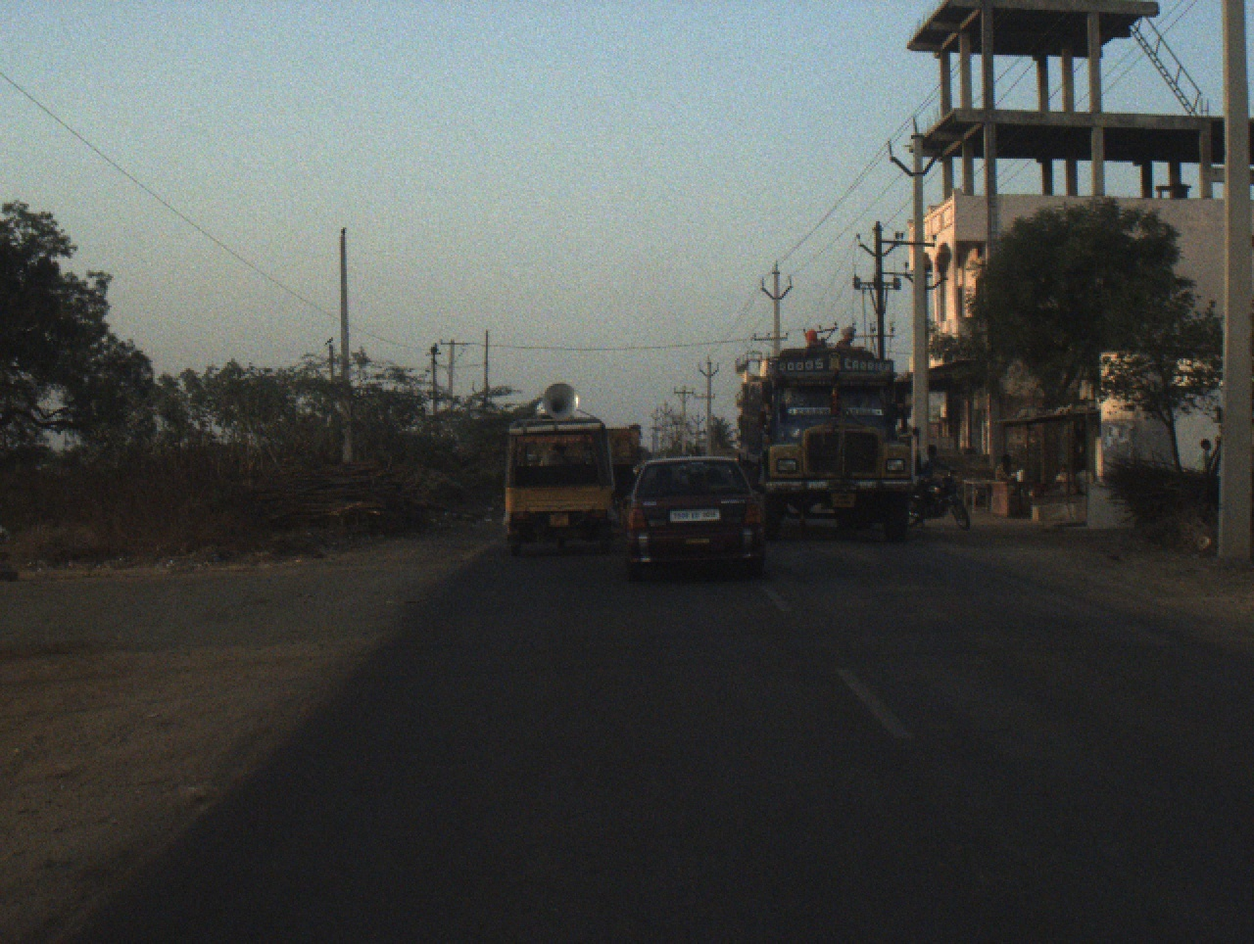car: (624, 453, 768, 585)
motorcycle: (912, 474, 972, 531)
person: (1192, 437, 1214, 472)
rider: (992, 452, 1026, 495)
truck: (735, 327, 919, 535), (501, 379, 616, 557), (603, 421, 645, 501)
